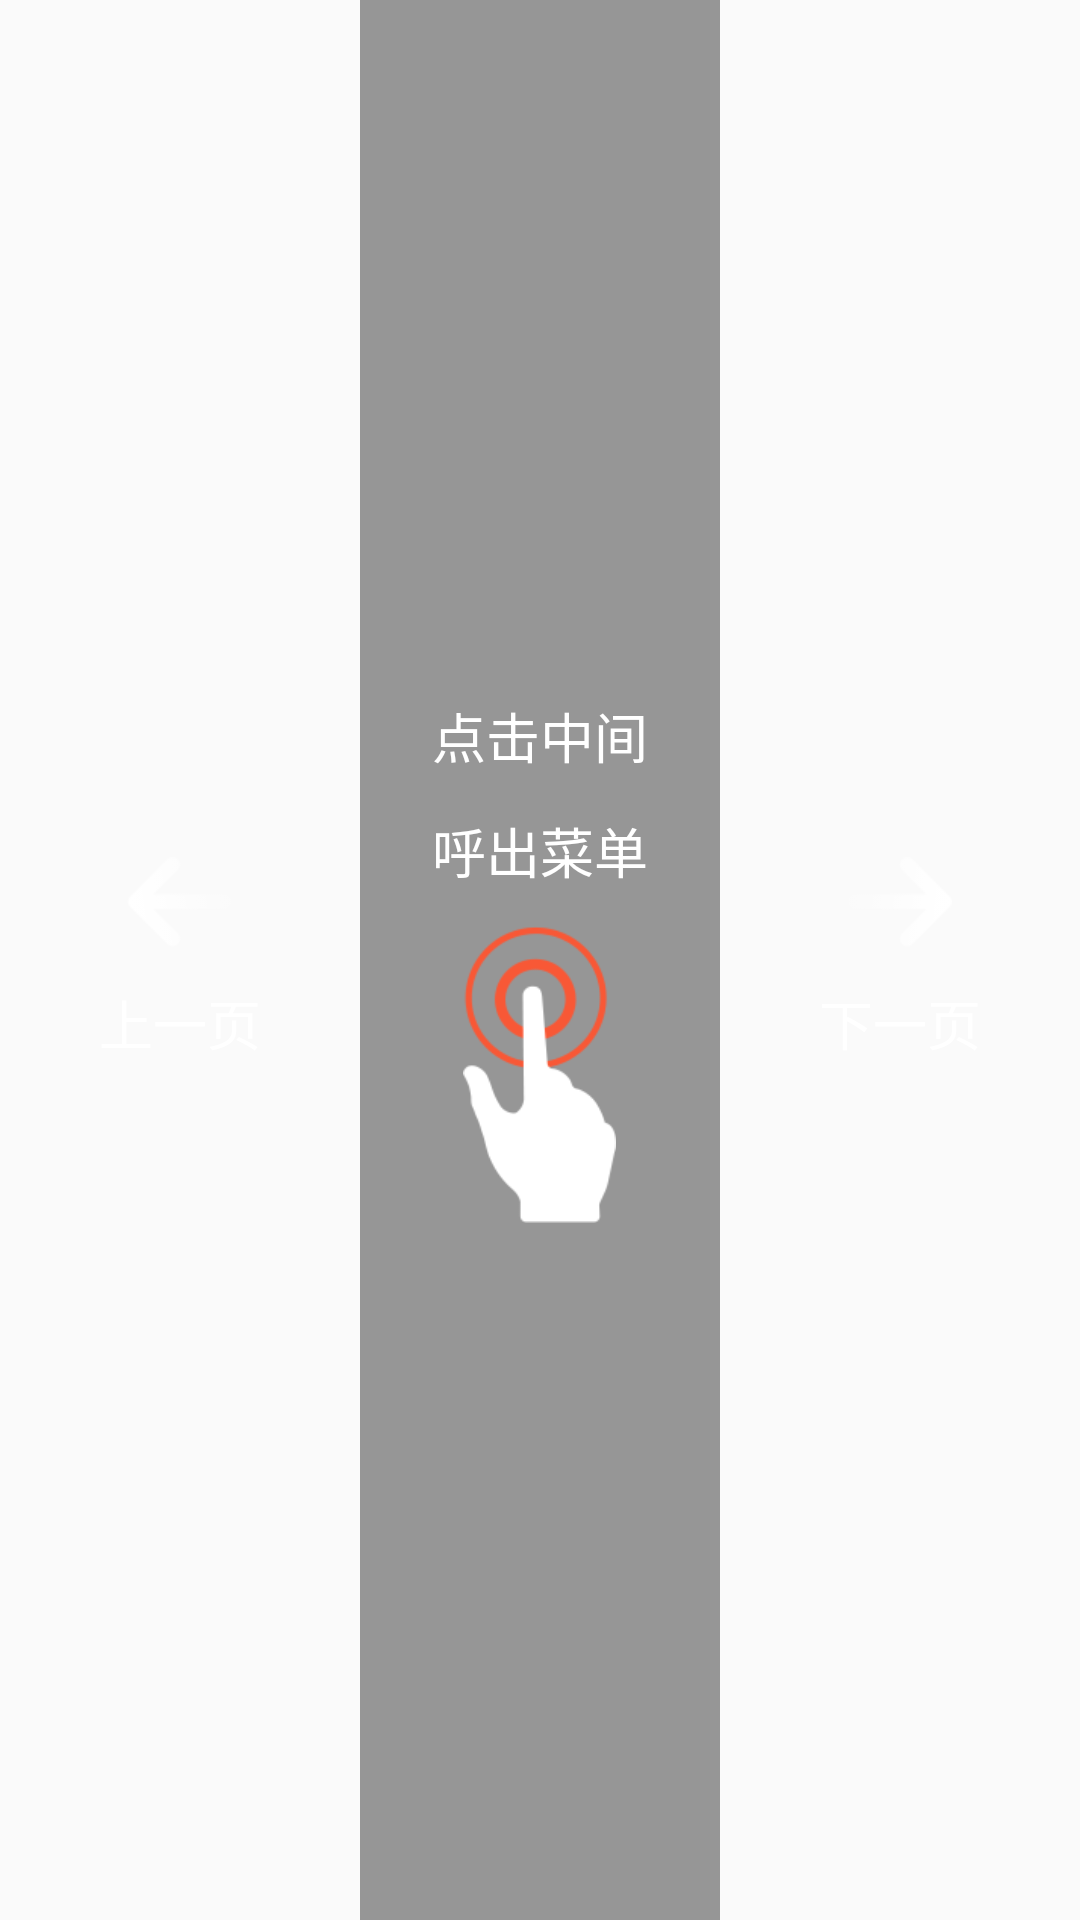

Point at icon controls on the screen. Image size 1080x1920, points as (x=x, y=y).
guide gesture: (x=539, y=1075)
